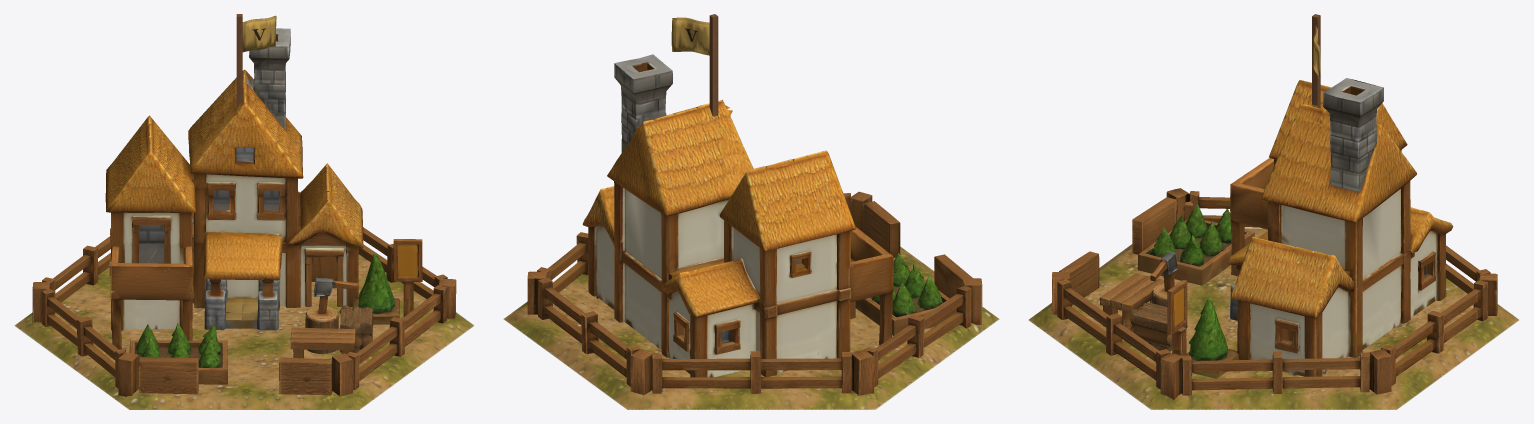
Rendered from workers-hut-5.glb.
The picture shows the model from 3 angles, left to right: view 1: azimuth 30°, elevation 25°; view 2: azimuth 150°, elevation 25°; view 3: azimuth 270°, elevation 25°; orthographic projection. The views are drawn at different scales.
Parts seen in each view (by area): view 1: architecture, ground, tier-banner; view 2: architecture, ground, tier-banner; view 3: architecture, ground.
Part boxes in pixels (x1,y1,x2,y2): architecture: (32, 14, 456, 396); ground: (14, 254, 474, 409); tier-banner: (242, 15, 276, 52); architecture: (527, 14, 982, 395); ground: (503, 246, 999, 409); tier-banner: (671, 17, 709, 55); architecture: (1052, 14, 1497, 399); ground: (1028, 228, 1519, 409).
Bounding box in the file's own units: 1.59 × 1.29 × 1.84.
3 materials, 3 textured.
